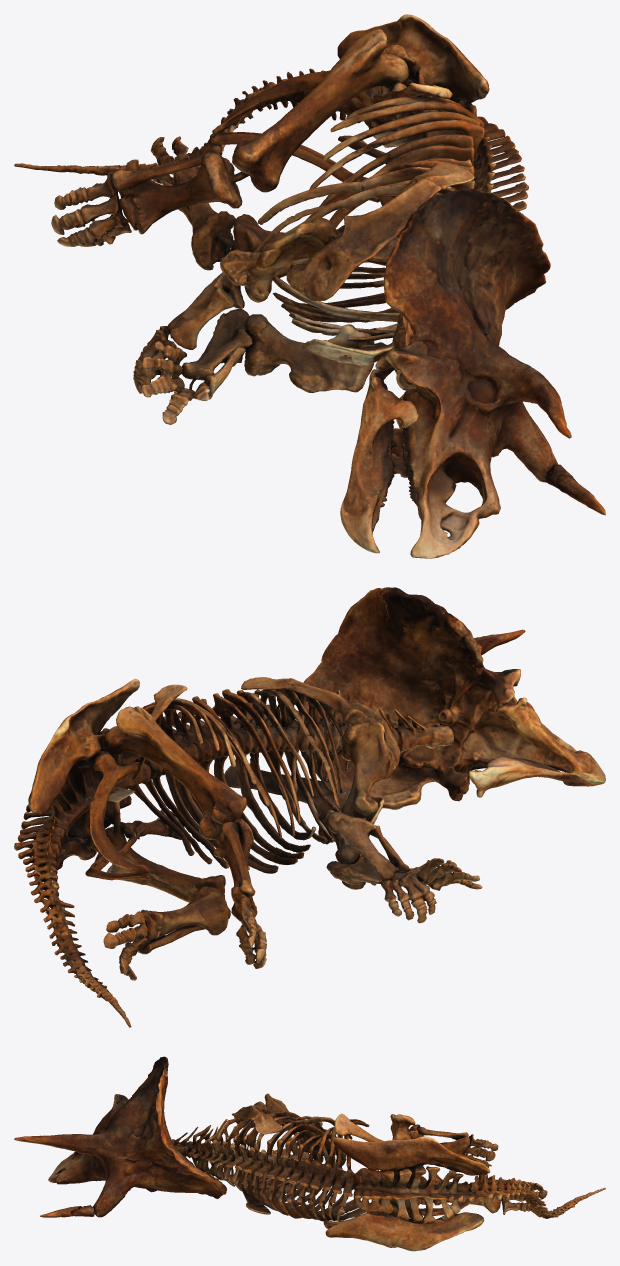
File: triceratops.glb
3 renders of one model, top to bottom at view 1: azimuth 30°, elevation 25°; view 2: azimuth 150°, elevation 25°; view 3: azimuth 270°, elevation 25°, orthographic. The views are drawn at different scales.
Bounding box in the file's own units: 2.8 × 1.66 × 5.89.
1 material, 1 textured.
